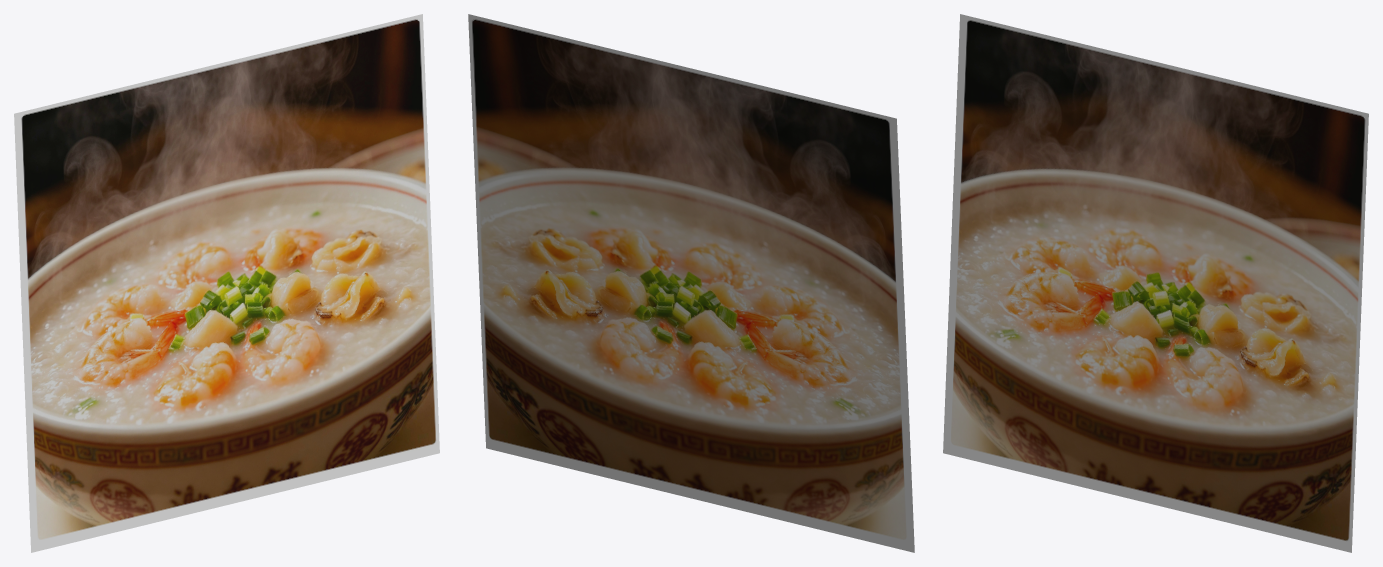
3 renders of one model, left to right at view 1: azimuth 30°, elevation 25°; view 2: azimuth 150°, elevation 25°; view 3: azimuth 330°, elevation 25°, orthographic. The views are drawn at different scales.
Visible parts, largest first — view 1: 平面; view 2: 平面; view 3: 平面.
Part boxes in pixels (<box>): 平面: <box>14,14,439,552</box>; 平面: <box>468,14,914,552</box>; 平面: <box>943,14,1368,552</box>.
Bounding box in the file's own units: 6.98 × 6.97 × 0.5059.
1 material, 1 textured.
